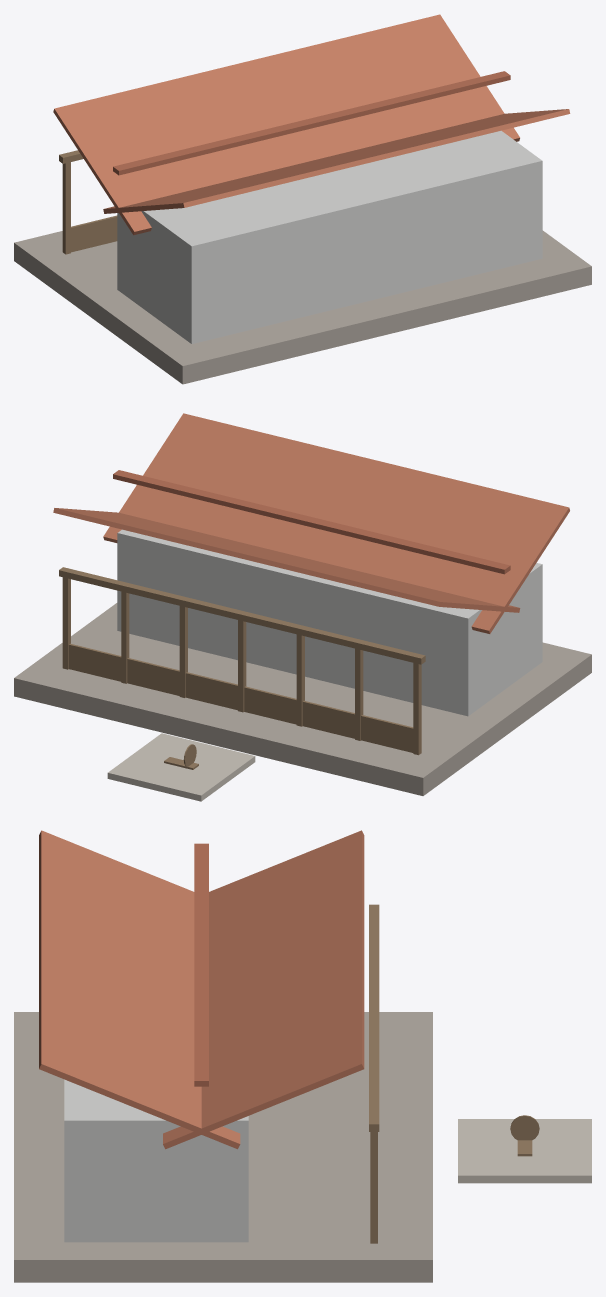
File: sabarmati.glb
The picture shows the model from 3 angles, top to bottom: view 1: azimuth 30°, elevation 25°; view 2: azimuth 150°, elevation 25°; view 3: azimuth 270°, elevation 25°; orthographic projection. The views are drawn at different scales.
Parts seen in each view (by area): view 1: geometry_0; view 2: geometry_0; view 3: geometry_0.
Part boxes in pixels (<box>): geometry_0: <box>14,14,591,384</box>; geometry_0: <box>14,413,591,801</box>; geometry_0: <box>14,830,591,1282</box>.
Bounding box in the file's own units: 14 × 5.58 × 13.8.
